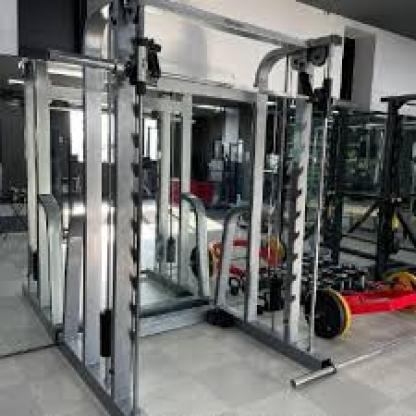smith machine: (60, 1, 341, 390)
